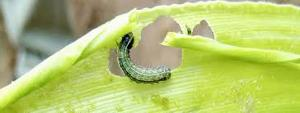fallarmy_worm: (114, 31, 174, 87)
